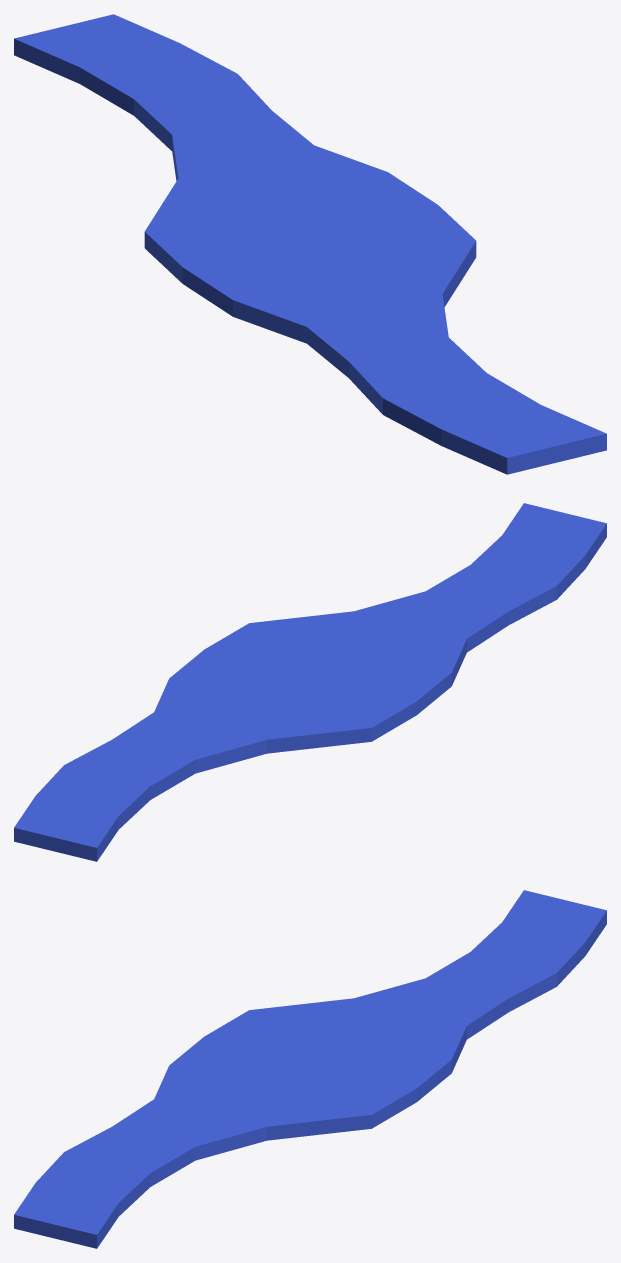
The model's file is rzeka.fbx.
3 views of the same model, one above another, from view 1: azimuth 30°, elevation 25°; view 2: azimuth 150°, elevation 25°; view 3: azimuth 330°, elevation 25° (orthographic). The views are drawn at different scales.
Parts seen in each view (by area): view 1: Cube.092; view 2: Cube.092; view 3: Cube.092.
Part boxes in pixels (x1,y1,x2,y2): Cube.092: (14, 14, 606, 474); Cube.092: (14, 503, 606, 861); Cube.092: (14, 890, 606, 1248).
Size of the model in its own units: 640 by 40 by 2400.
